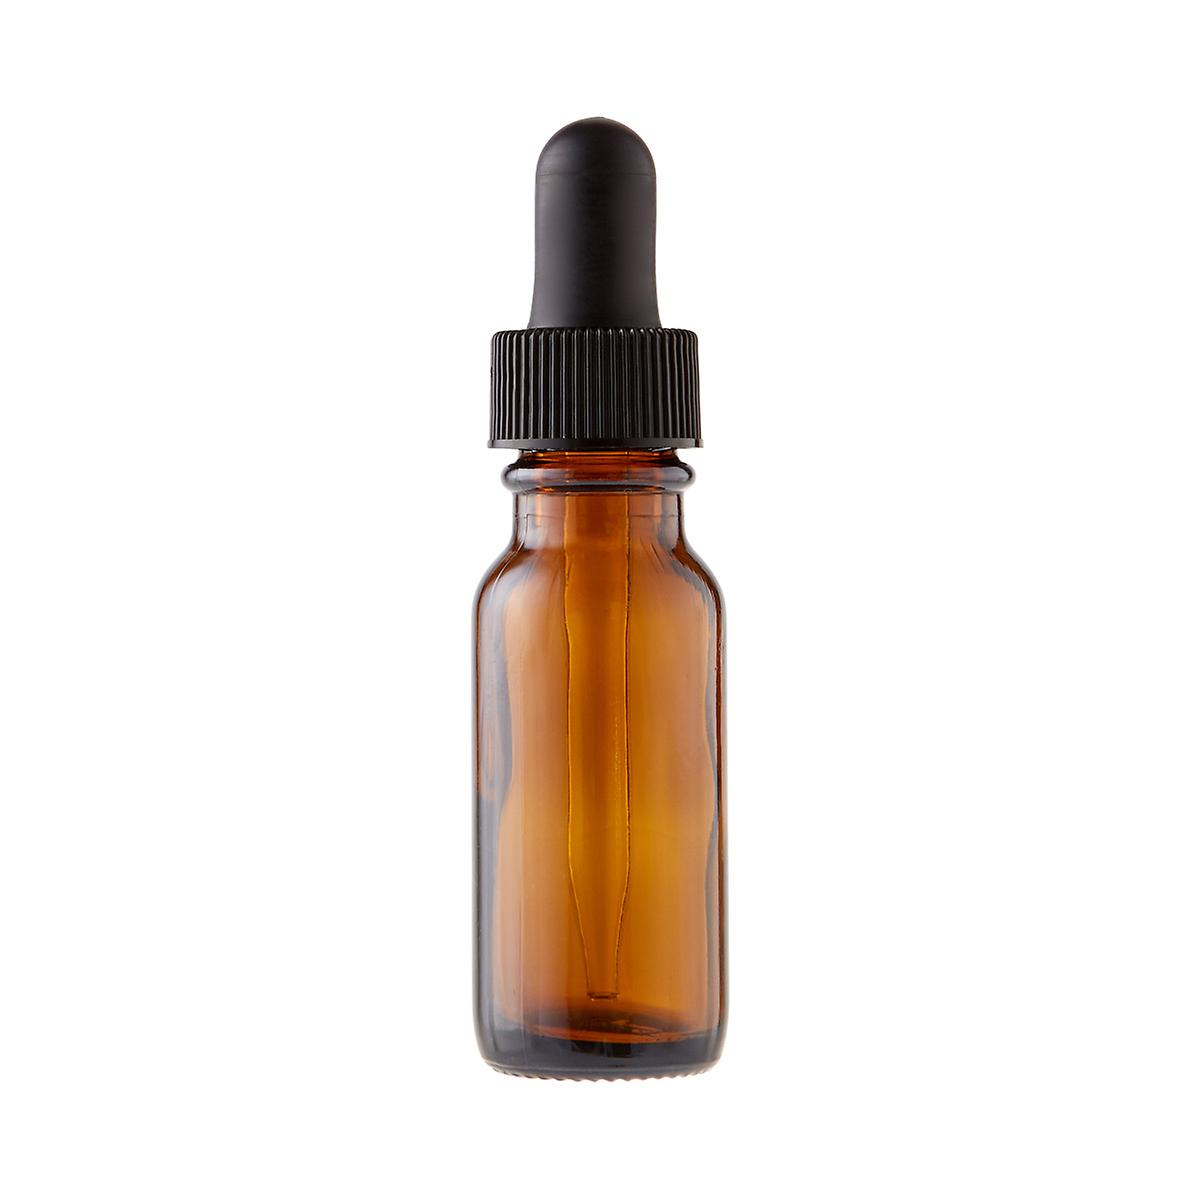glass_bottle: (457, 112, 743, 1097)
